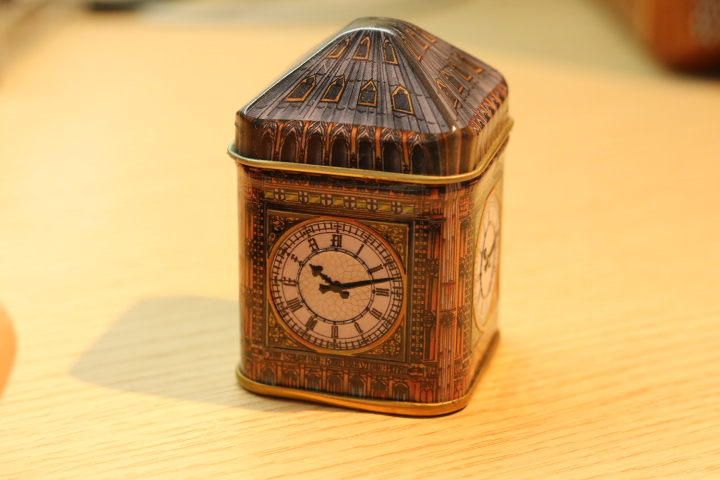Big Ben: (221, 10, 526, 423)
